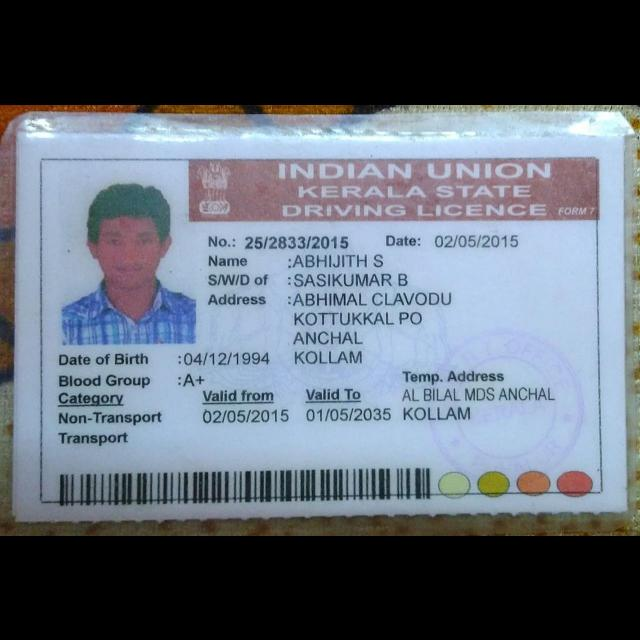driving_licence: (28, 141, 610, 509)
